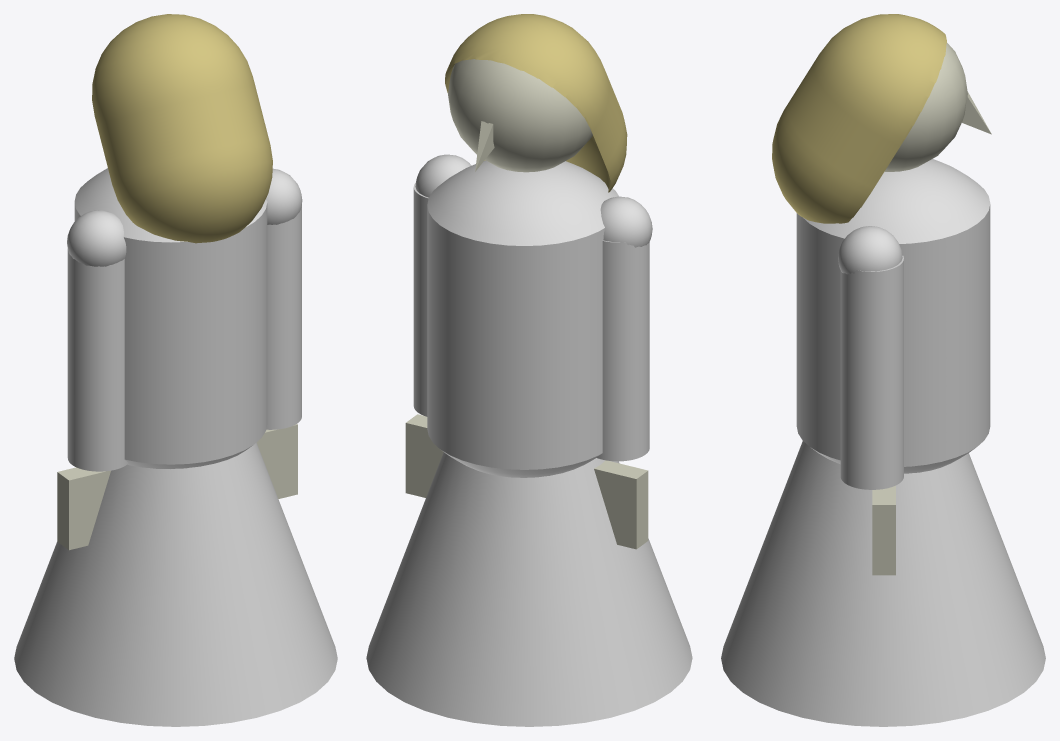
Rendered from pleagirl.fbx.
3 renders of one model, left to right at view 1: azimuth 30°, elevation 25°; view 2: azimuth 150°, elevation 25°; view 3: azimuth 270°, elevation 25°, orthographic.
Visible parts, largest first — view 1: Cone, Oil_Tank, hair, Cylinder_1_2, Cylinder_1, Sphere_2_2, Cube_4, Cube, Sphere_2, Cube_3, Cube_2; view 2: Cone, Oil_Tank, head, hair, Cylinder_1_2, Cylinder_1, Cube_4, Sphere_2_2, Cube_2, Cube, Sphere_2, Cube_3 (+2 smaller); view 3: Cone, Oil_Tank, hair, Cylinder_1, head, Sphere_2, Cube_2, Cube.
Boxes of the visible parts, left/top/right/bottom form: Cone: left=14, top=442, right=337, bottom=726; Oil_Tank: left=74, top=168, right=267, bottom=468; hair: left=92, top=14, right=272, bottom=243; Cylinder_1_2: left=67, top=249, right=128, bottom=471; Cylinder_1: left=266, top=205, right=301, bottom=429; Sphere_2_2: left=67, top=210, right=126, bottom=266; Cube_4: left=57, top=467, right=110, bottom=531; Cube: left=259, top=438, right=297, bottom=498; Sphere_2: left=265, top=168, right=302, bottom=224; Cube_3: left=57, top=486, right=92, bottom=550; Cube_2: left=256, top=424, right=297, bottom=485; Cone: left=366, top=452, right=692, bottom=726; Oil_Tank: left=427, top=160, right=618, bottom=477; head: left=448, top=59, right=592, bottom=172; hair: left=445, top=14, right=627, bottom=192; Cylinder_1_2: left=596, top=240, right=649, bottom=461; Cylinder_1: left=413, top=182, right=428, bottom=416; Cube_4: left=594, top=460, right=648, bottom=535; Sphere_2_2: left=600, top=196, right=652, bottom=247; Cube_2: left=405, top=414, right=443, bottom=484; Cube: left=405, top=437, right=442, bottom=497; Sphere_2: left=415, top=154, right=471, bottom=197; Cube_3: left=598, top=484, right=648, bottom=549; Cone: left=721, top=441, right=1045, bottom=726; Oil_Tank: left=796, top=159, right=990, bottom=473; hair: left=772, top=14, right=946, bottom=223; Cylinder_1: left=840, top=255, right=903, bottom=489; head: left=884, top=43, right=967, bottom=171; Sphere_2: left=838, top=226, right=902, bottom=274; Cube_2: left=872, top=485, right=895, bottom=560; Cube: left=872, top=519, right=895, bottom=575.
Size of the model in its own units: 73.71 by 159 by 73.71.
